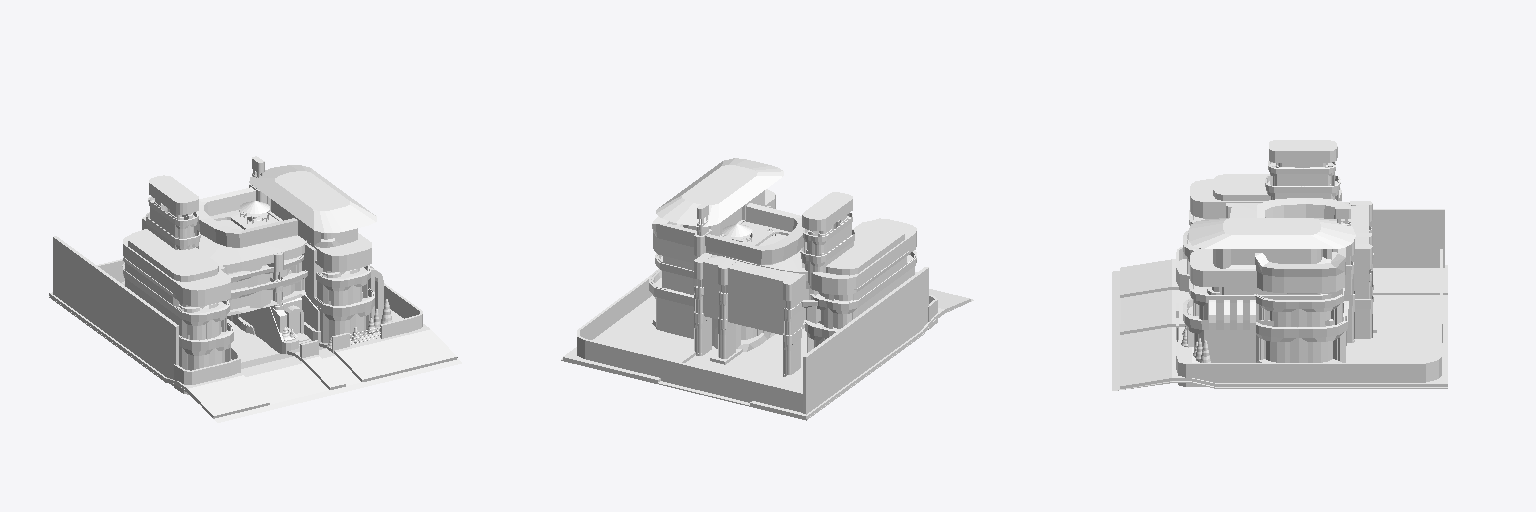
The model's file is Utopian Scifi  House.obj.
3 views of the same model, side by side, from view 1: azimuth 30°, elevation 25°; view 2: azimuth 150°, elevation 25°; view 3: azimuth 270°, elevation 25° (orthographic).
Parts seen in each view (by area): view 1: ultra house2; view 2: ultra house2; view 3: ultra house2.
Part boxes in pixels (x1,y1,x2,y2): ultra house2: (49, 156, 461, 422); ultra house2: (561, 158, 973, 420); ultra house2: (1112, 140, 1447, 390).
Size of the model in its own units: 319 by 188 by 379.